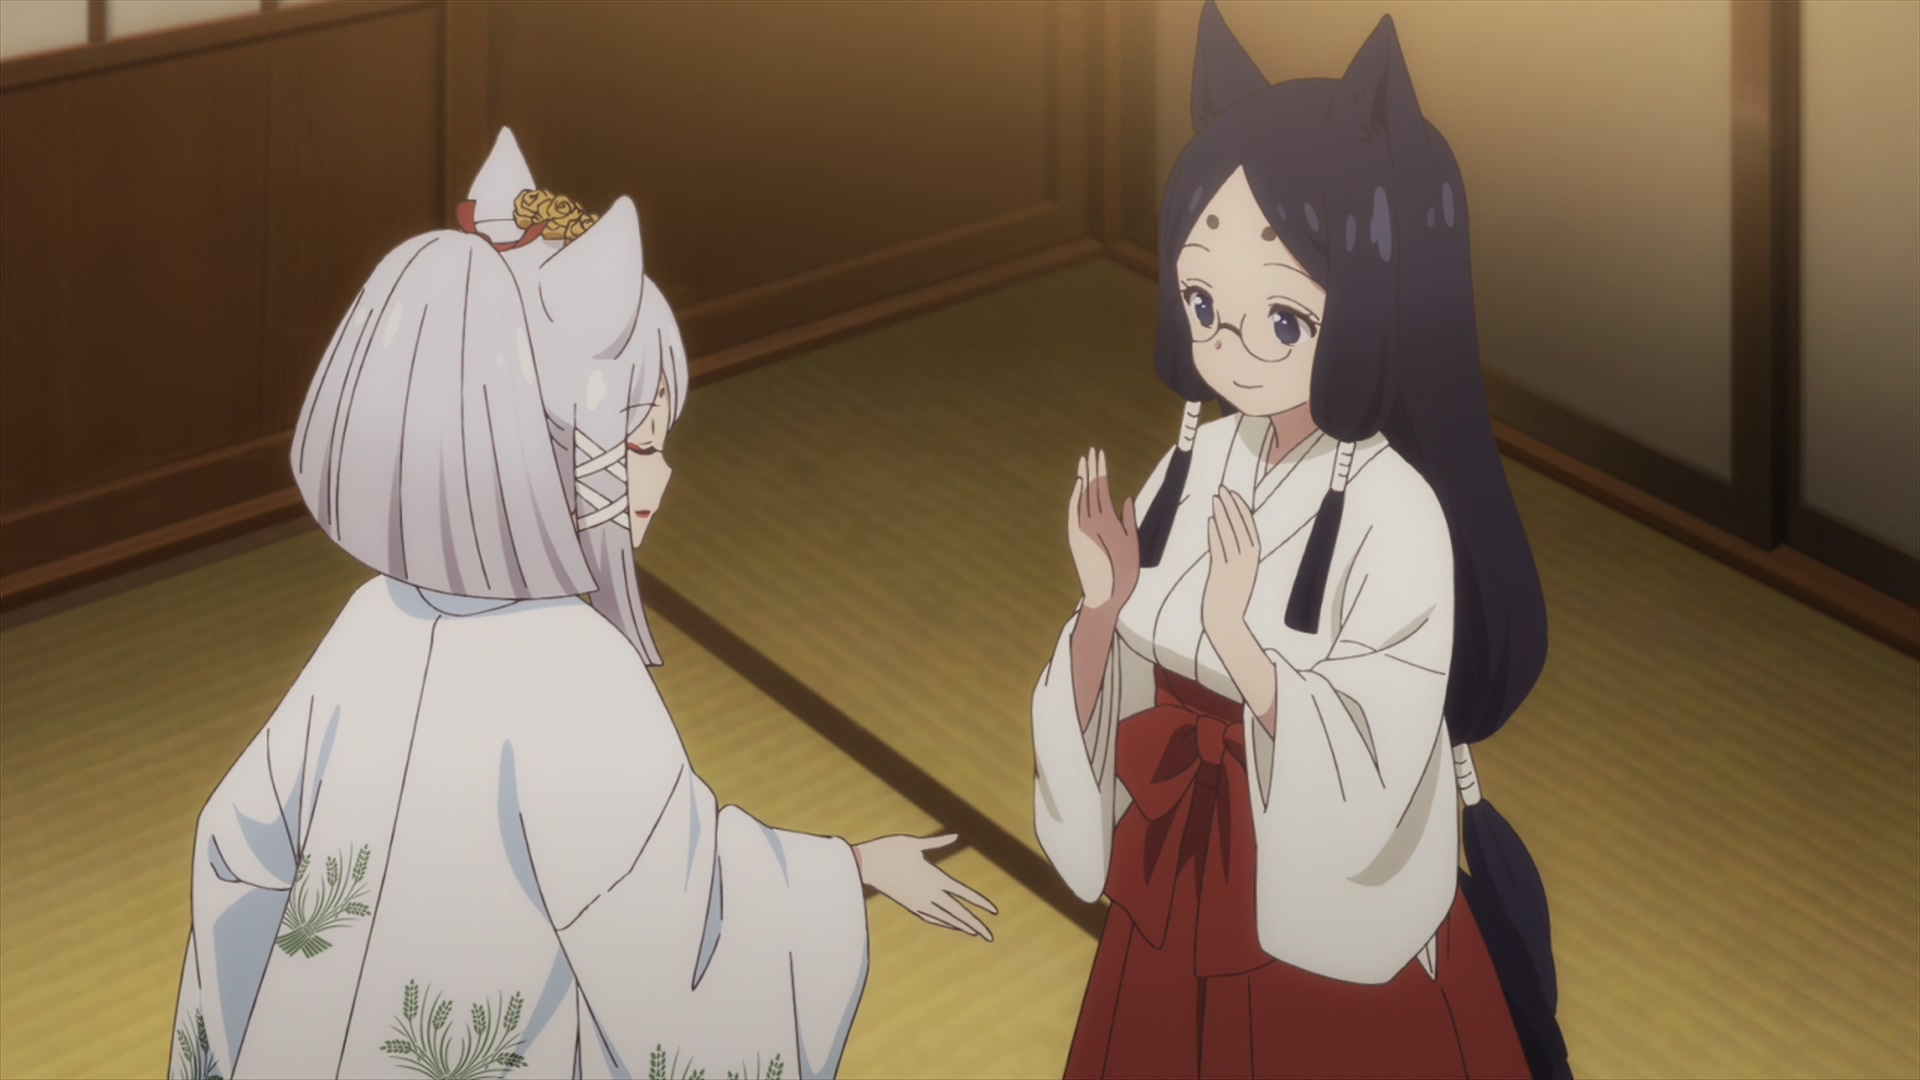柊: (169, 127, 1000, 1080)
菖: (1030, 1, 1573, 1080)
